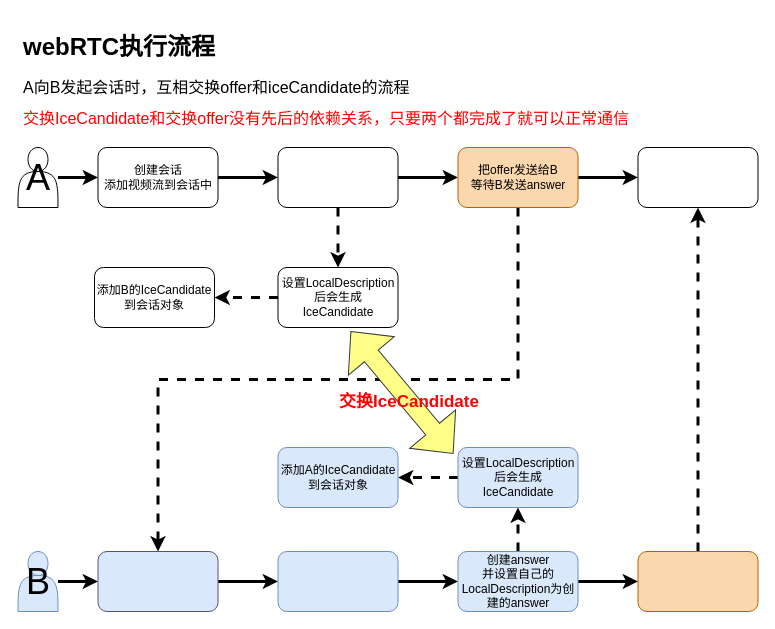
This 775x629 diagram has some shape labels left out. The centre of each missing label's shape, as x and y in pixels:
创建offer，并设置自己的LocalDescription 为创建的offer: the point at 337,177
创建会话 添加视频流到会话中 等待A发送offer: the point at 157,581
把answer发送给A: the point at 697,581
接收到answer后 把RemoteDescription设置为收到的answer: the point at 697,177
接收到offer以后 把RemoteDescription设置为收到的offer: the point at 337,581
